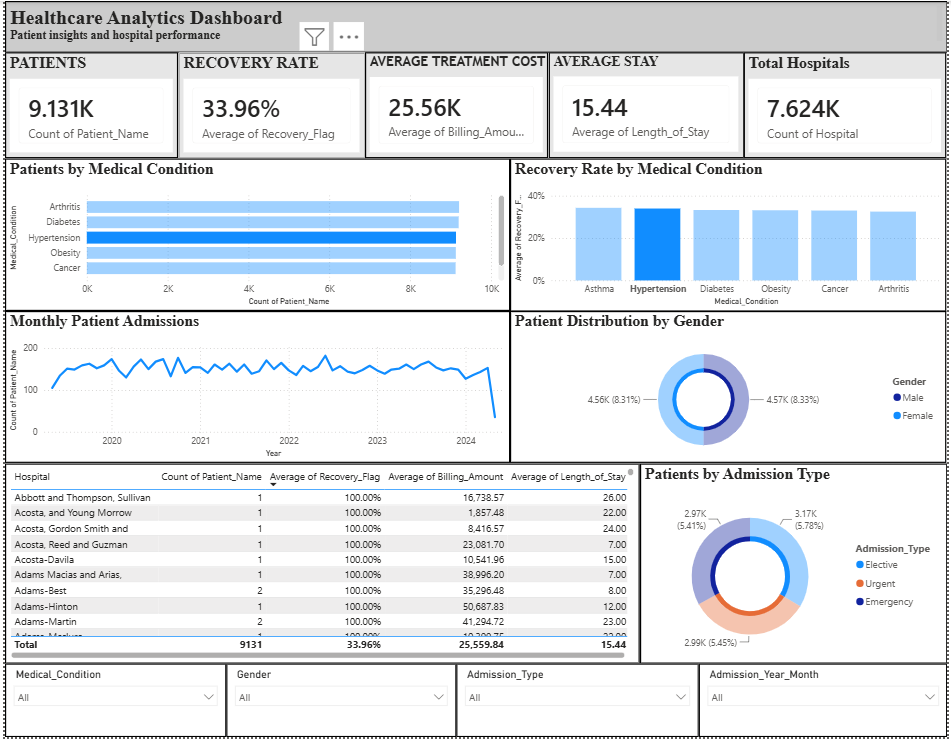

This screenshot's page, from the dashboard's own definition file:
{"tool":"powerbi","page":{"name":"Healthcare Dashboard","canvas":[1280,1000],"ordinal":0},"visuals":[{"type":"textbox","box":[0,0,1280.9,70.3],"z":0},{"type":"cardVisual","title":"PATIENTS","fields":{"Data":["CountNonNull(healthcare_cleaned.Patient_Name)"]},"box":[0,70.3,235.4,143.7],"z":1000},{"type":"cardVisual","title":"RECOVERY RATE","fields":{"Data":["Avg(healthcare_cleaned.Recovery_Flag)"]},"box":[235.4,70.3,253.7,143.7],"z":2000},{"type":"cardVisual","title":"AVERAGE TREATMENT COST","fields":{"Data":["Avg(healthcare_cleaned.Billing_Amount)"]},"box":[489.1,70.3,249.2,143.7],"z":3000},{"type":"cardVisual","title":"AVERAGE STAY","fields":{"Data":["Avg(healthcare_cleaned.Length_of_Stay)"]},"box":[738.3,70.3,266,143.7],"z":4000},{"type":"cardVisual","title":"Total Hospitals","fields":{"Data":["Count(healthcare_cleaned.Hospital)"]},"box":[1004.3,70.3,275.1,143.7],"z":5000},{"type":"clusteredBarChart","title":"Patients by Medical Condition","fields":{"Category":["healthcare_cleaned.Medical_Condition"],"Y":["CountNonNull(healthcare_cleaned.Patient_Name)"]},"box":[0,214,686.1,207.2],"z":6000},{"type":"clusteredColumnChart","title":"Recovery Rate by Medical Condition","fields":{"Category":["healthcare_cleaned.Medical_Condition"],"Y":["Avg(healthcare_cleaned.Recovery_Flag)"]},"box":[686.3,214,593.1,207.9],"z":7000},{"type":"lineChart","title":"Monthly Patient Admissions","fields":{"Category":["healthcare_cleaned.Admission_Year_Month.Variation.Date Hierarchy.Year","healthcare_cleaned.Admission_Year_Month.Variation.Date Hierarchy.Quarter","healthcare_cleaned.Admission_Year_Month.Variation.Date Hierarchy.Month","healthcare_cleaned.Admission_Year_Month.Variation.Date Hierarchy.Day"],"Y":["CountNonNull(healthcare_cleaned.Patient_Name)"]},"box":[0,421.9,686.3,206.4],"z":8000},{"type":"donutChart","title":"Patient Distribution by Gender","fields":{"Category":["healthcare_cleaned.Gender"],"Y":["CountNonNull(healthcare_cleaned.Patient_Name)"]},"box":[686.3,421.9,593.1,206.4],"z":9000},{"type":"donutChart","title":"Patients by Admission Type","fields":{"Category":["healthcare_cleaned.Admission_Type"],"Y":["CountNonNull(healthcare_cleaned.Patient_Name)"]},"box":[862.1,628.2,417.3,272.1],"z":10000},{"type":"tableEx","fields":{"Values":["healthcare_cleaned.Hospital","healthcare_cleaned.Patient_Name","Avg(healthcare_cleaned.Recovery_Flag)","Avg(healthcare_cleaned.Billing_Amount)","Avg(healthcare_cleaned.Length_of_Stay)"]},"box":[0,628.2,862.1,272.1],"z":11000},{"type":"slicer","fields":{"Values":["healthcare_cleaned.Medical_Condition"]},"box":[0,900.1,300.6,100.2],"z":11001},{"type":"slicer","fields":{"Values":["healthcare_cleaned.Gender"]},"box":[300.6,900.1,312.5,100.2],"z":11002},{"type":"slicer","fields":{"Values":["healthcare_cleaned.Admission_Type"]},"box":[613.1,900.1,329.5,100.2],"z":11003},{"type":"slicer","fields":{"Values":["healthcare_cleaned.Admission_Year_Month"]},"box":[942.6,900.1,338,100.2],"z":11004}]}

Visuals, with their boxes in screenshot pixels (x1, y1, x2, y2), scaled from the page's 1280x1000 canvas onto the 951x741 screenshot:
textbox: x1=0, y1=0, x2=950, y2=52
"PATIENTS" cardVisual: x1=0, y1=52, x2=175, y2=159
"RECOVERY RATE" cardVisual: x1=175, y1=52, x2=363, y2=159
"AVERAGE TREATMENT COST" cardVisual: x1=363, y1=52, x2=549, y2=159
"AVERAGE STAY" cardVisual: x1=549, y1=52, x2=746, y2=159
"Total Hospitals" cardVisual: x1=746, y1=52, x2=950, y2=159
"Patients by Medical Condition" clusteredBarChart: x1=0, y1=159, x2=510, y2=312
"Recovery Rate by Medical Condition" clusteredColumnChart: x1=510, y1=159, x2=950, y2=313
"Monthly Patient Admissions" lineChart: x1=0, y1=313, x2=510, y2=466
"Patient Distribution by Gender" donutChart: x1=510, y1=313, x2=950, y2=466
"Patients by Admission Type" donutChart: x1=641, y1=465, x2=950, y2=667
tableEx - healthcare_cleaned.Hospital x healthcare_cleaned.Patient_Name: x1=0, y1=465, x2=641, y2=667
slicer - healthcare_cleaned.Medical_Condition: x1=0, y1=667, x2=223, y2=740
slicer - healthcare_cleaned.Gender: x1=223, y1=667, x2=456, y2=740
slicer - healthcare_cleaned.Admission_Type: x1=456, y1=667, x2=700, y2=740
slicer - healthcare_cleaned.Admission_Year_Month: x1=700, y1=667, x2=950, y2=740
